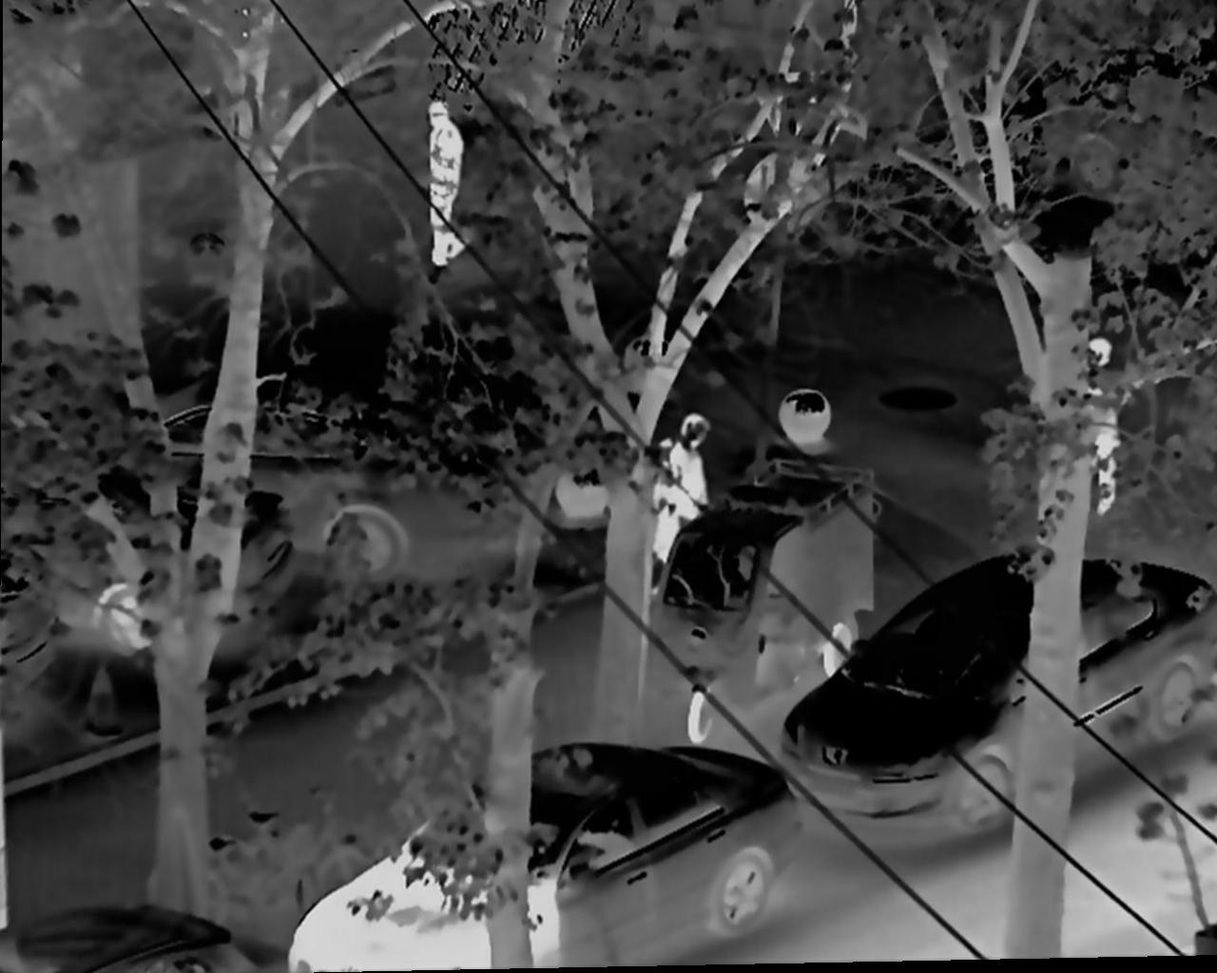person: (409, 95, 476, 265), (1083, 332, 1131, 520), (649, 410, 705, 562)
